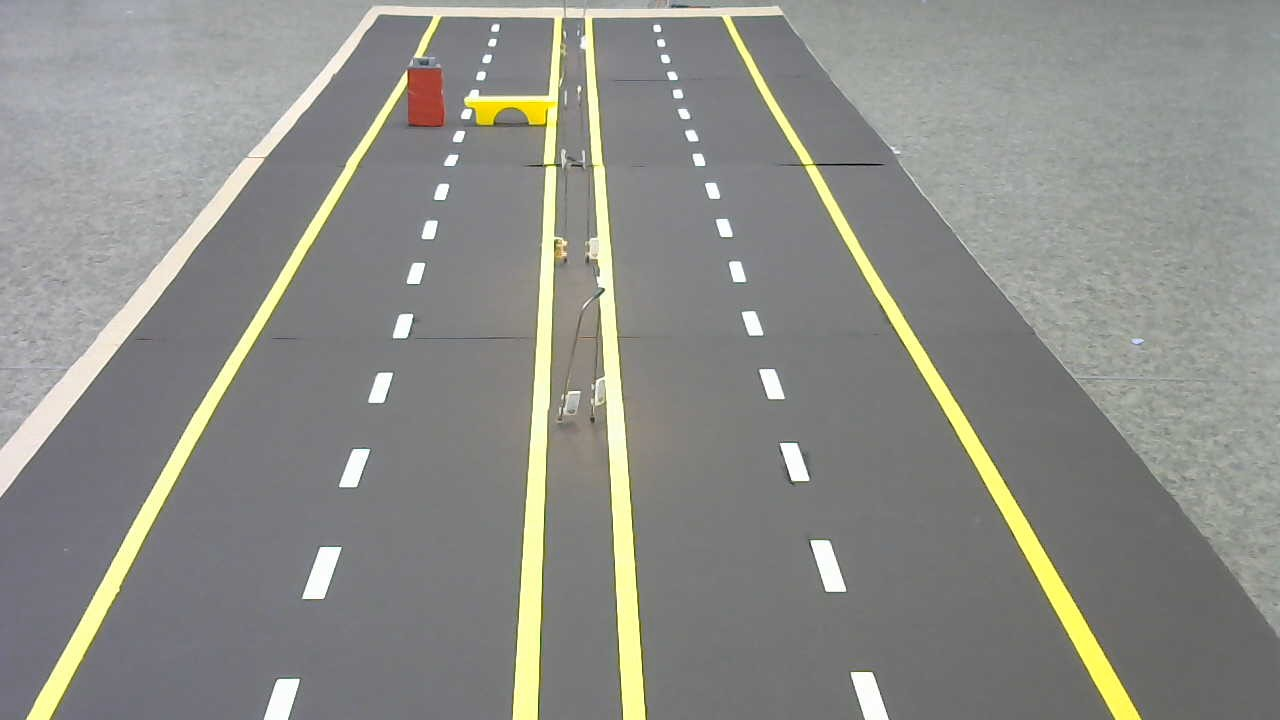accident: (404, 55, 448, 129)
emergency_situation: (463, 93, 558, 129)
